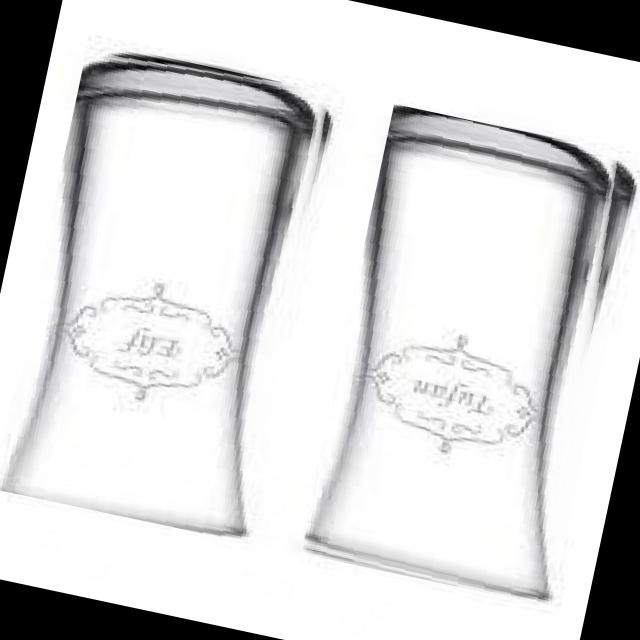Glass: (0, 37, 345, 542), (297, 102, 640, 607)
